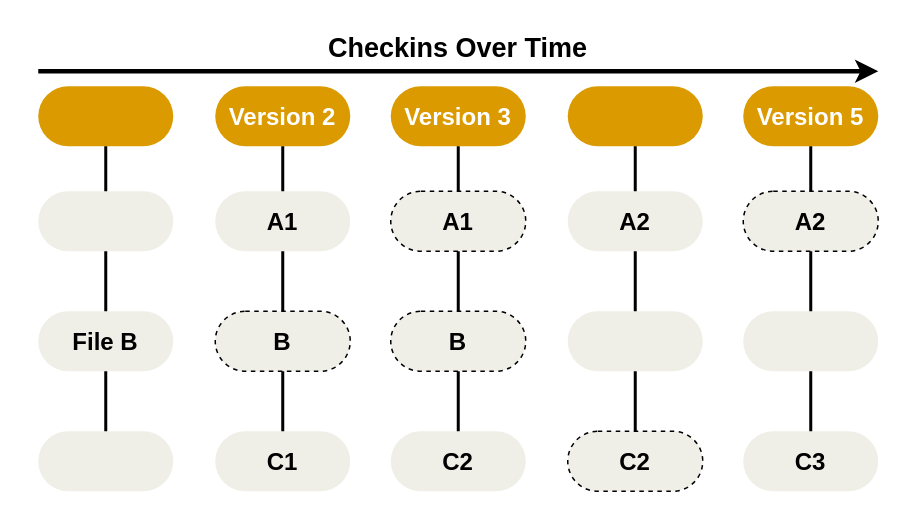
Some shapes in this 918 by 518 pixel diagram are drawn without their labels. The shapes that lost their labels are listed below. From the top down, each one's box as (x1, y1, x2, y2) in pixels, then its label:
(38, 86, 172, 146): Version 1
(567, 86, 702, 146): Version 4
(38, 190, 172, 250): File A
(567, 310, 702, 370): B1
(742, 310, 878, 370): B2
(38, 430, 172, 490): File C
